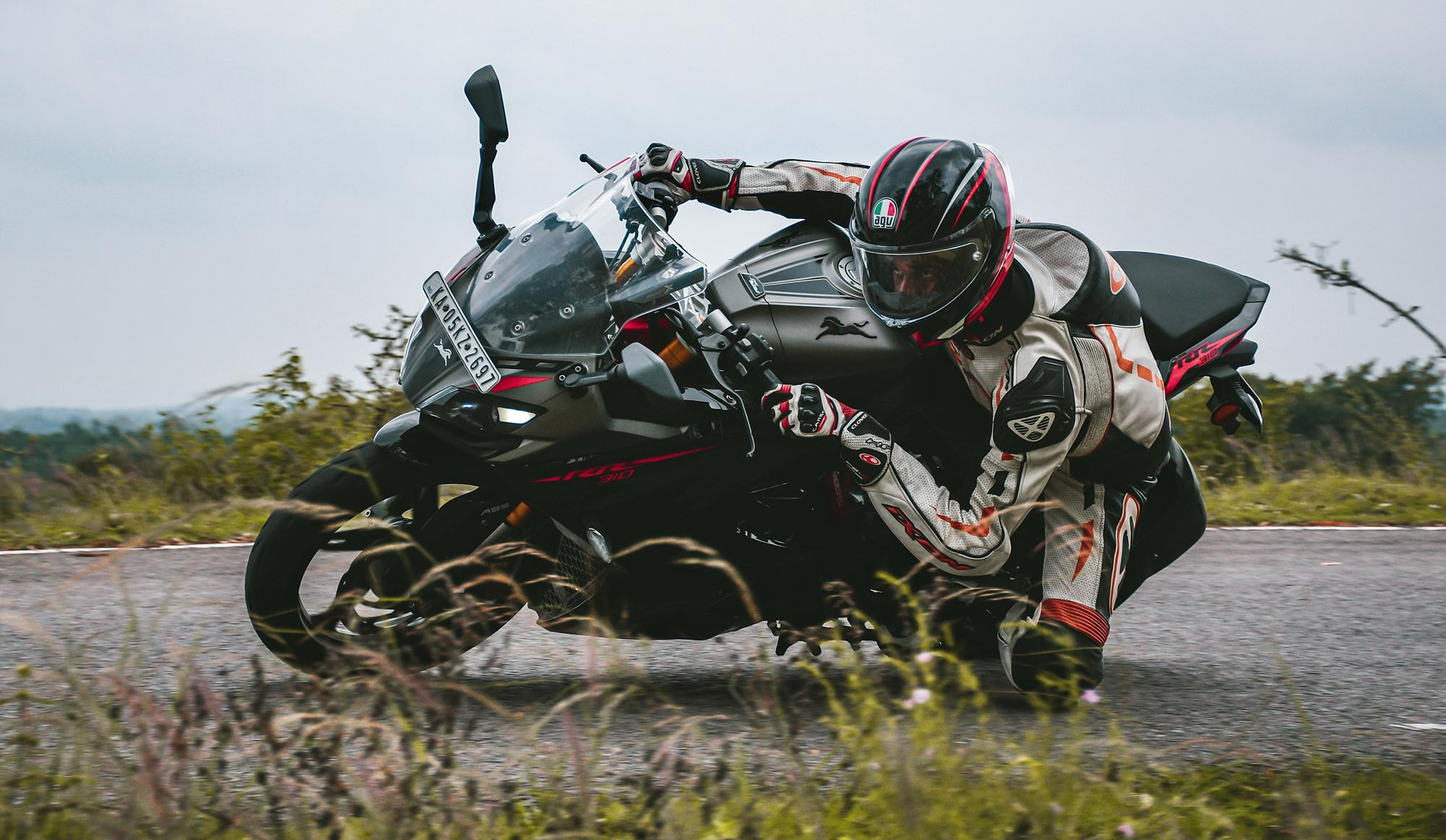helmet: (847, 134, 1017, 362)
